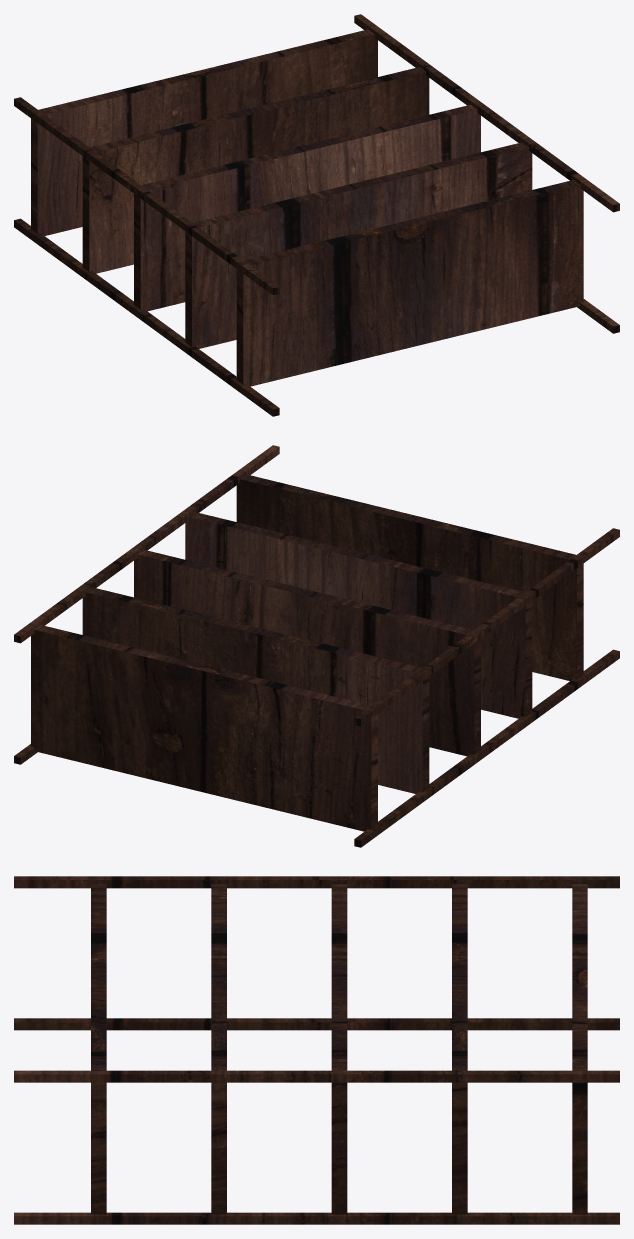
File: shelf_woodenglb.glb
3 views of the same model, one above another, from view 1: azimuth 30°, elevation 25°; view 2: azimuth 150°, elevation 25°; view 3: azimuth 270°, elevation 25° (orthographic). The views are drawn at different scales.
Parts seen in each view (by area): view 1: shelf; view 2: shelf; view 3: shelf.
Part boxes in pixels (x1,y1,x2,y2): shelf: (14,14,619,416); shelf: (14,445,619,847); shelf: (14,876,619,1224).
Bounding box in the file's own units: 1.55 × 0.5472 × 2.
1 material, 1 textured.
